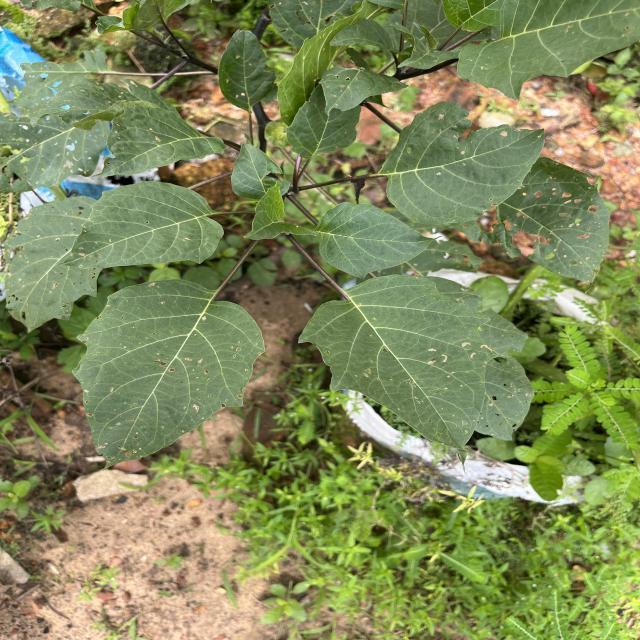Datura metal linn: (297, 272, 502, 476), (66, 276, 268, 476), (376, 98, 546, 232), (55, 177, 225, 276), (95, 93, 232, 182), (310, 198, 450, 282), (242, 177, 318, 243)
